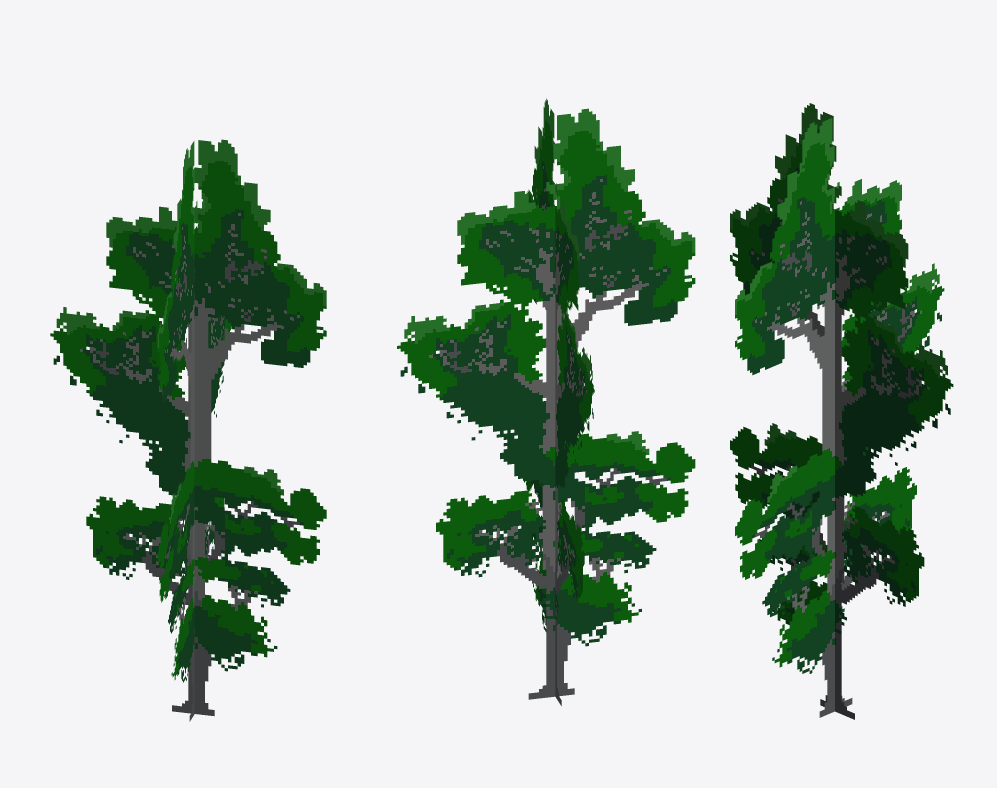
The model's file is ka'a mate.glb.
3 views of the same model, side by side, from view 1: azimuth 30°, elevation 25°; view 2: azimuth 150°, elevation 25°; view 3: azimuth 270°, elevation 25° (orthographic). The views are drawn at different scales.
Parts seen in each view (by area): view 1: plane; view 2: plane; view 3: plane.
Boxes of the visible parts, bbox=[...] form: plane: bbox=[50, 139, 326, 721]; plane: bbox=[397, 98, 695, 705]; plane: bbox=[730, 103, 953, 719].
Size of the model in its own units: 1.26 by 3.13 by 1.13.
1 material, 1 textured.
